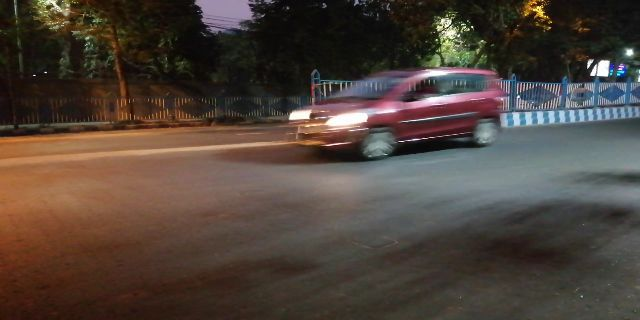Car: (281, 62, 519, 163)
